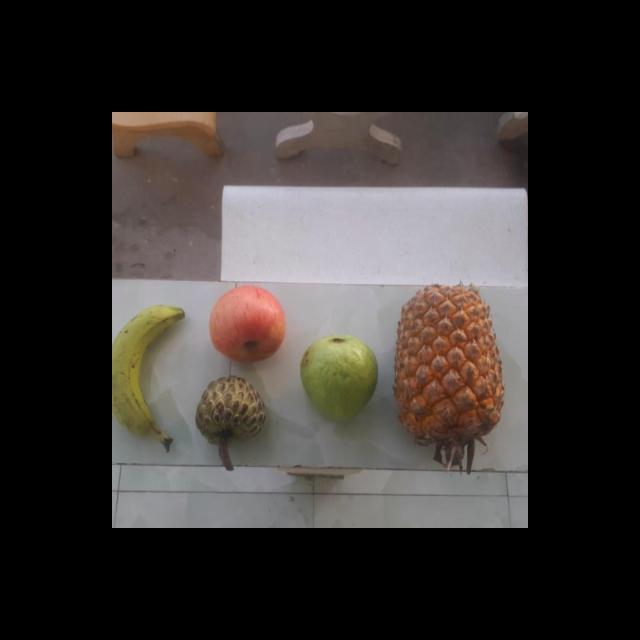Sakya fruit: (194, 376, 268, 452)
apple: (207, 286, 289, 366)
banana: (112, 304, 188, 441)
guava: (302, 334, 382, 422)
pineapple: (396, 284, 504, 448)
